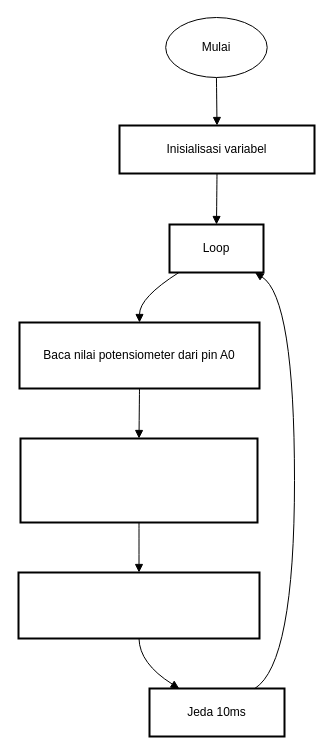
Image size: 332x755. Some labels were removed from this diagram. Each missing label, with the centre of its shape:
Atur kecerahan LED pada pin 9: point 138,605
Konversi nilai potensiometer 0-1023 menjadi nilai PWM 0-255: point 138,480
